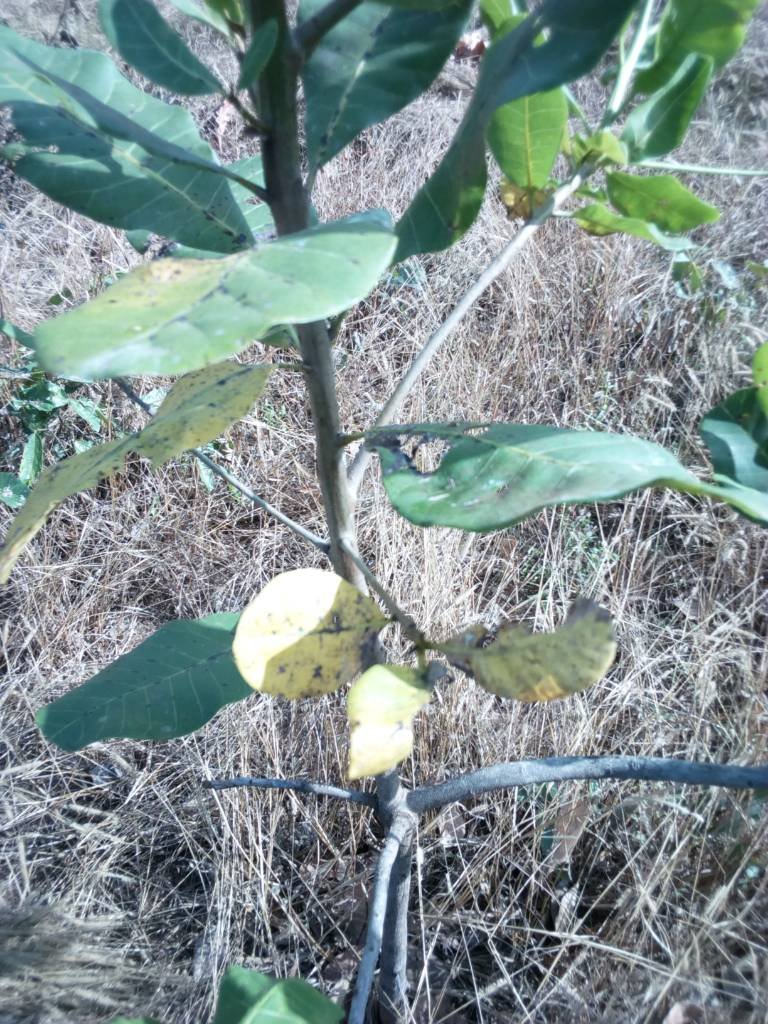Anthracnose: (35, 217, 380, 382), (1, 357, 286, 550), (232, 566, 397, 696)
